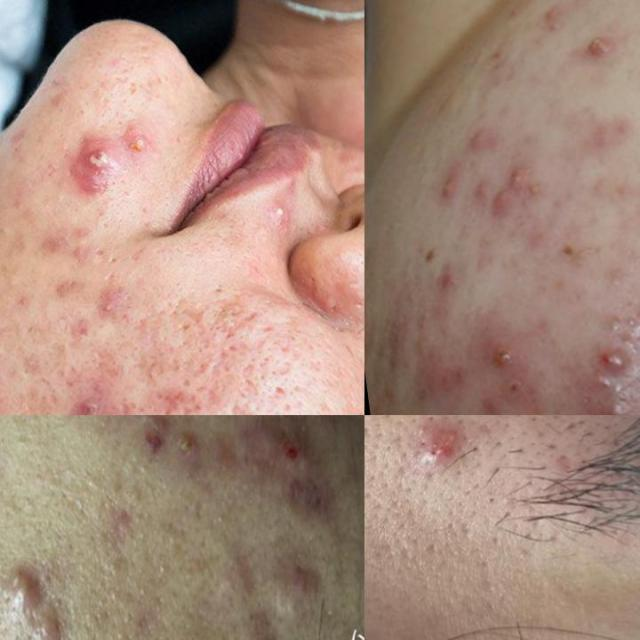cyst: (225, 411, 325, 473), (0, 563, 62, 640), (413, 423, 471, 486), (77, 142, 119, 193), (284, 559, 314, 599), (433, 175, 468, 208), (604, 341, 632, 379), (144, 417, 172, 454), (485, 348, 525, 372), (584, 34, 612, 66), (543, 2, 568, 37), (99, 292, 125, 323), (71, 396, 104, 420), (511, 159, 530, 198), (177, 431, 200, 461), (129, 132, 148, 163), (495, 187, 508, 229), (271, 200, 292, 225)
